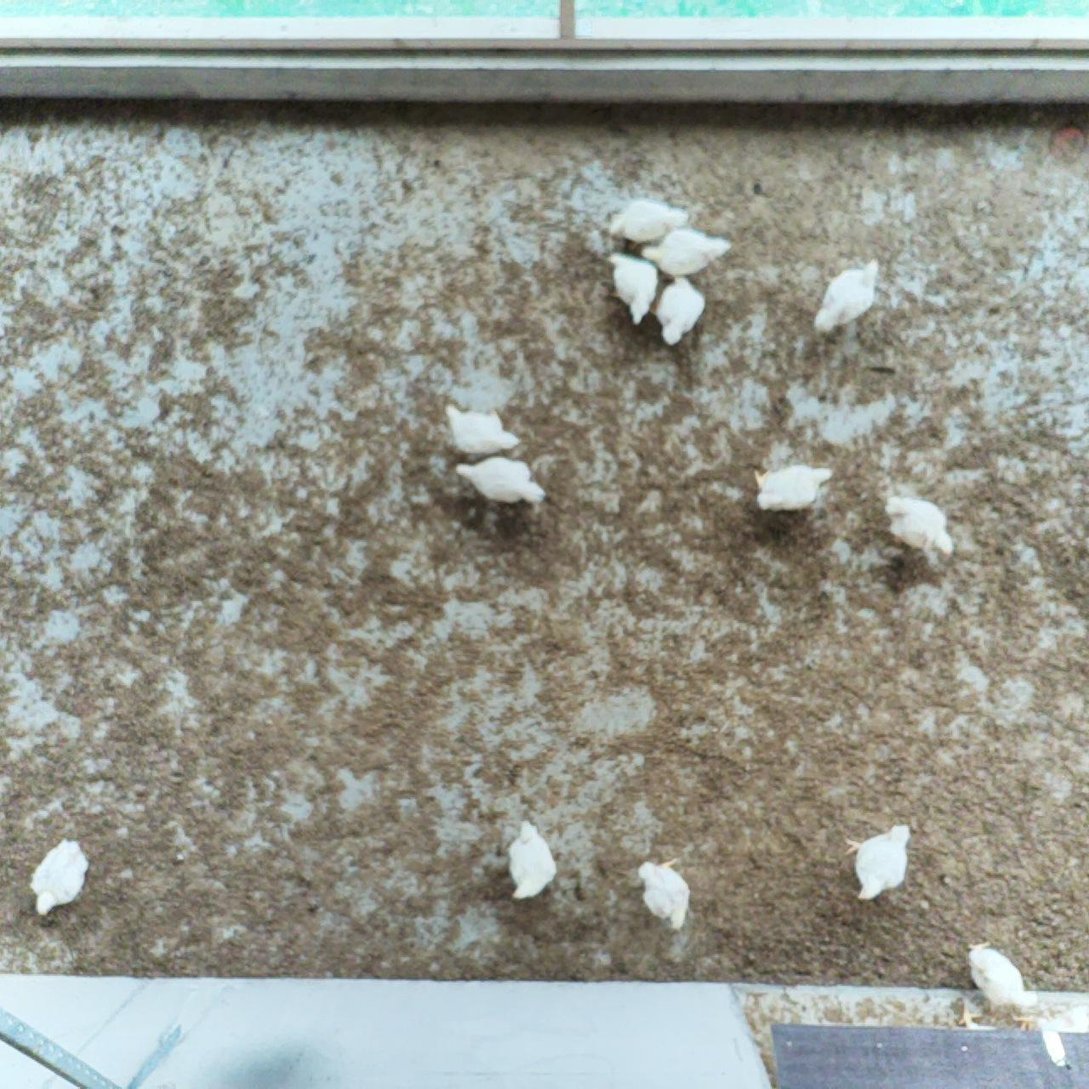chicken: (843, 817, 917, 905), (808, 255, 886, 337), (633, 224, 737, 282), (26, 829, 92, 920), (451, 451, 550, 508), (442, 398, 524, 464), (958, 937, 1032, 1010), (878, 490, 956, 559), (603, 192, 694, 248), (503, 817, 561, 902), (603, 247, 663, 326), (749, 460, 835, 515), (635, 852, 692, 933), (654, 267, 705, 346)
